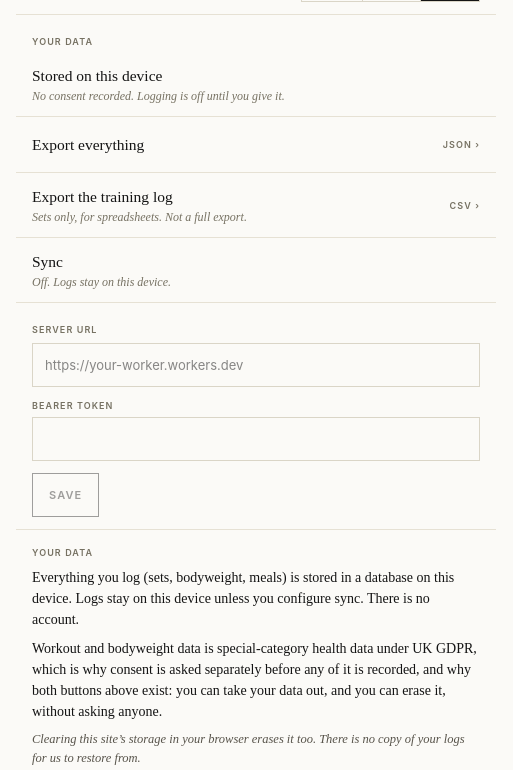
Test case: Settings sync section › Save stays disabled while either field is empty
(page scrolled)
expect the text "Off. Logs stay on this device." is shown: met, box left=32, top=274, right=171, bottom=290
expect the button with test id "sync-save-button" is disabled: met, box left=32, top=473, right=99, bottom=517
Type "https://x.example" into the field with test id "sync-url-input" at (256, 366), box left=32, top=344, right=480, bottom=388
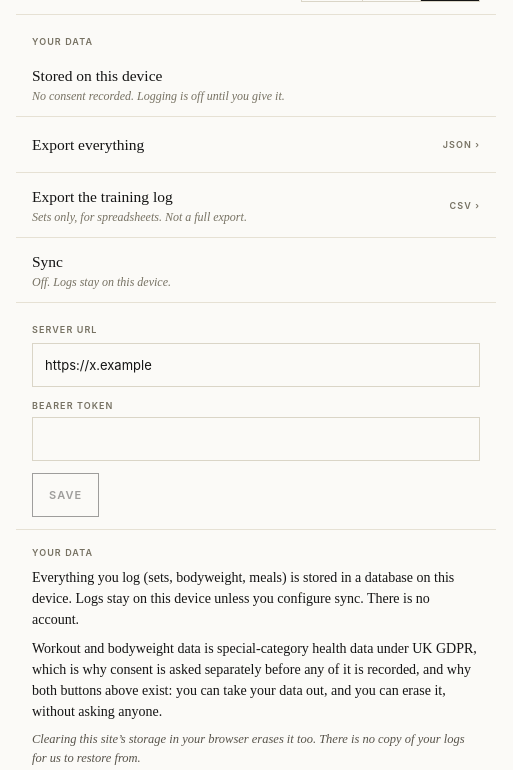
expect the button with test id "sync-save-button" is disabled: met, box left=32, top=473, right=99, bottom=517
Type "tok" into the password field with test id "sync-token-input" at (256, 439), box left=32, top=417, right=480, bottom=461
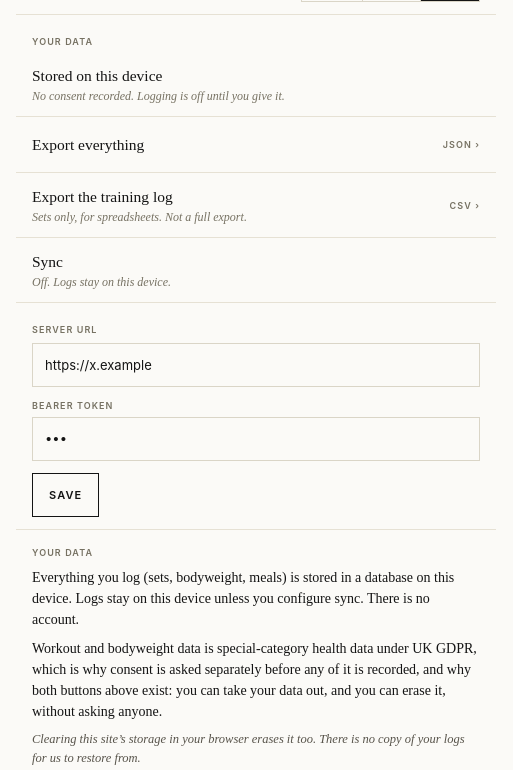
expect the button with test id "sync-save-button" is enabled: met, box left=32, top=473, right=99, bottom=517
